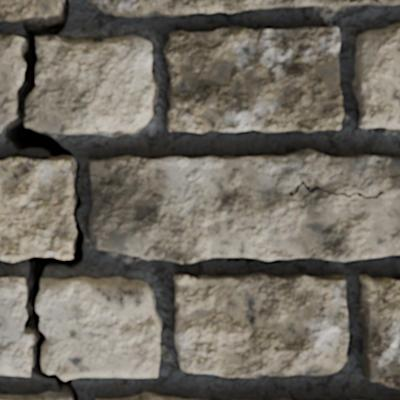brick: (89, 149, 399, 262), (164, 26, 343, 132), (174, 273, 347, 377), (0, 157, 75, 261), (352, 23, 399, 128), (358, 275, 399, 387), (89, 0, 376, 16), (0, 0, 62, 21), (112, 393, 198, 399), (0, 392, 71, 399), (381, 0, 399, 4)
broken_brick: (25, 33, 159, 137), (37, 275, 162, 379), (0, 276, 30, 377), (0, 33, 23, 125)
crack: (0, 0, 84, 399), (373, 0, 383, 5)
